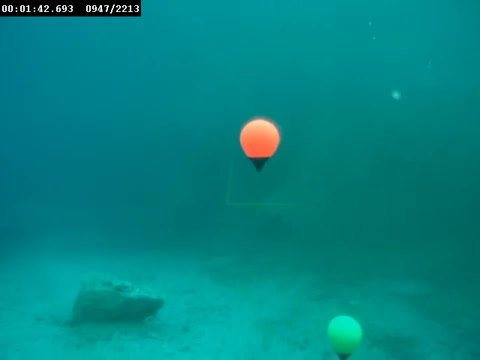buoy_red: (236, 117, 279, 171)
